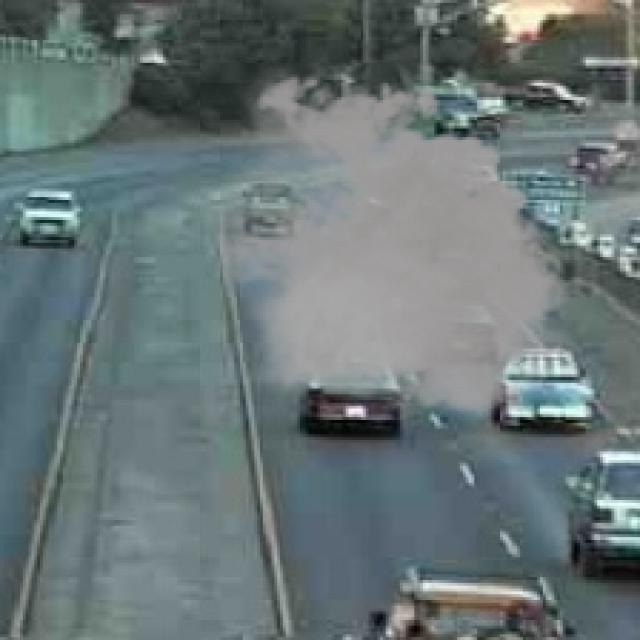smoke: (194, 63, 580, 426)
